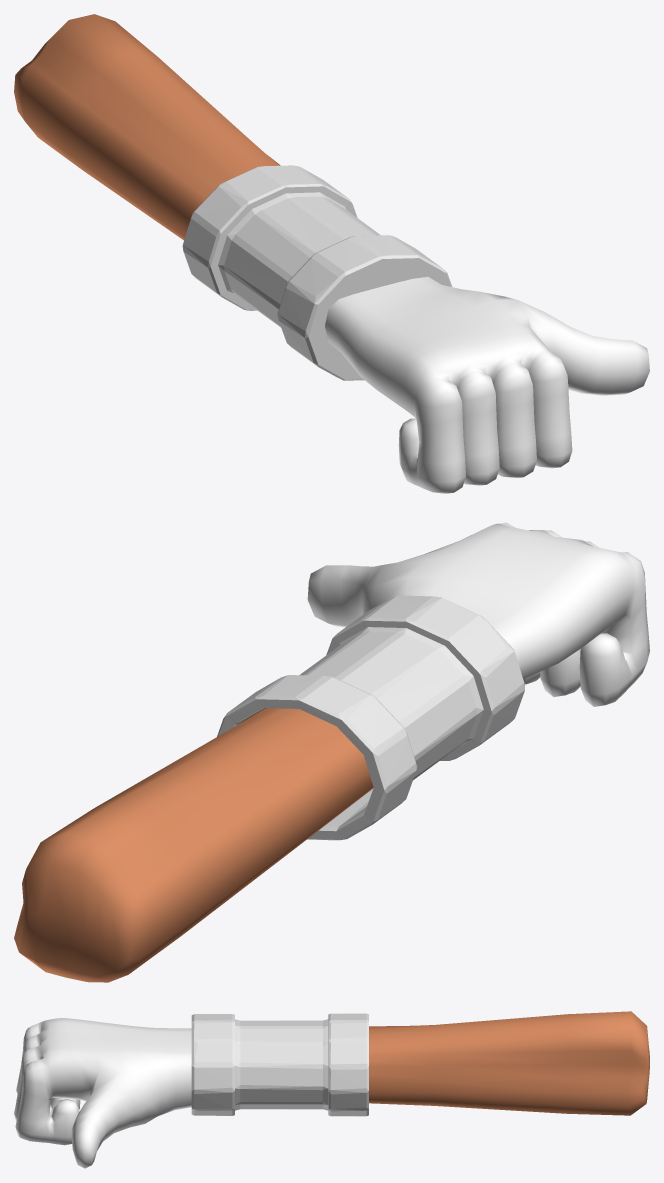
The model's file is hand.glb.
3 views of the same model, one above another, from view 1: azimuth 30°, elevation 25°; view 2: azimuth 150°, elevation 25°; view 3: azimuth 270°, elevation 25° (orthographic). The views are drawn at different scales.
Visible parts, largest first — view 1: Glove, Cylinder; view 2: Glove, Cylinder; view 3: Glove, Cylinder.
Boxes of the visible parts, x1,y1,x2,y2 form: Glove: [14, 14, 649, 493]; Cylinder: [182, 165, 452, 380]; Glove: [14, 522, 649, 982]; Cylinder: [217, 595, 524, 840]; Glove: [14, 1011, 649, 1168]; Cylinder: [191, 1013, 368, 1116].
Size of the model in its own units: 5.68 by 3.23 by 16.42.
Materials: 1 (1 with a texture image).
